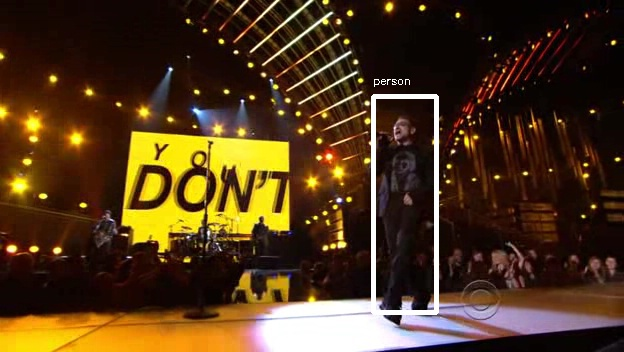person: (371, 114, 437, 221), (368, 114, 434, 221), (374, 114, 440, 221), (371, 111, 437, 218), (371, 117, 437, 224)
target_negative: (182, 98, 580, 212), (206, 199, 437, 270), (389, 239, 475, 277), (422, 283, 448, 327), (582, 278, 588, 301)
